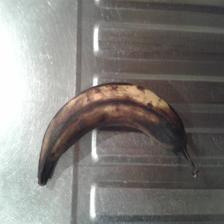Banana Rotten: (34, 87, 208, 182)
